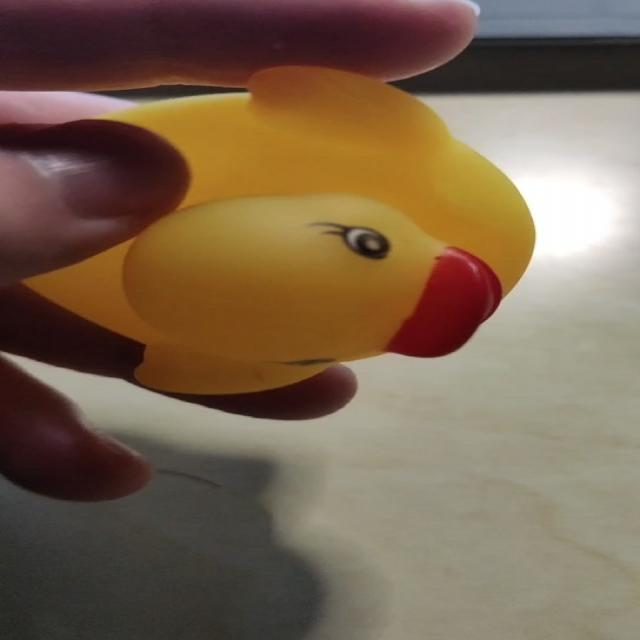rubber-duck: (25, 66, 533, 392)
